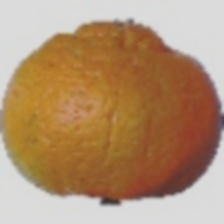tangerine: (30, 14, 172, 171)
